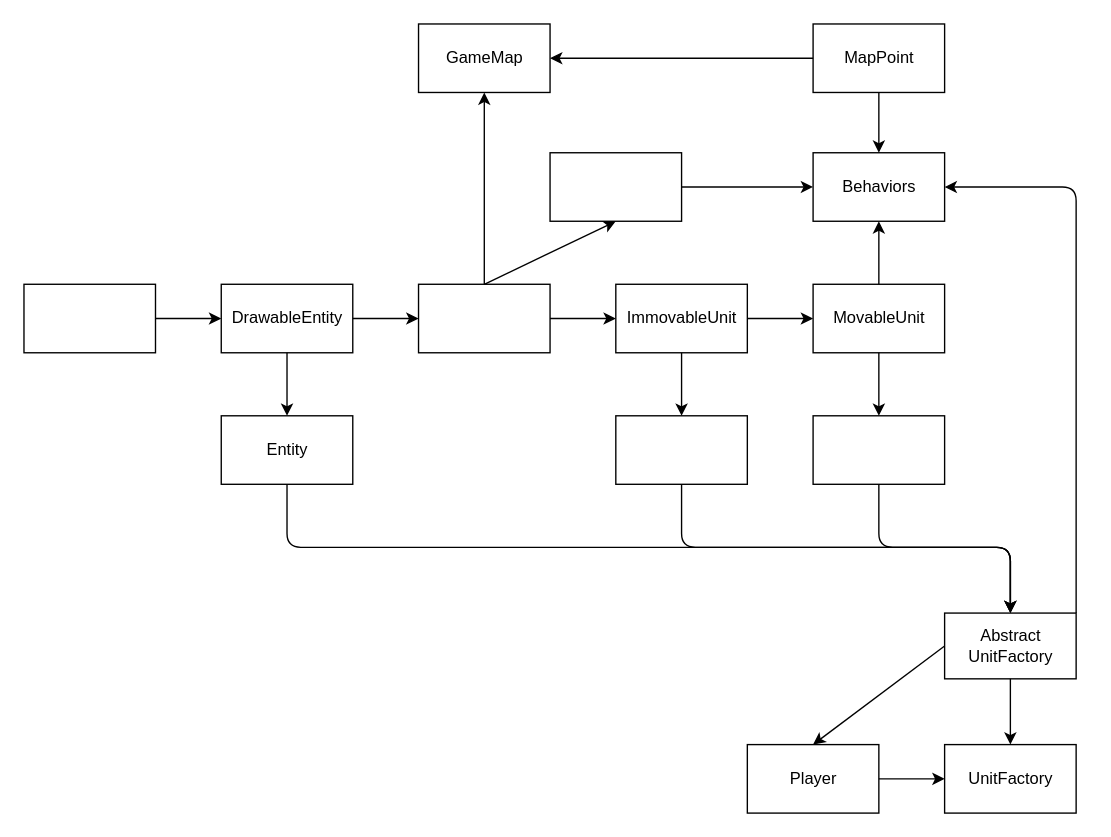
Some shapes in this 1111 by 837 pixel diagram are drawn without their labels. The shapes that lost their labels are listed below. From the top down, each one's centre as x and y in pixels, then its label:
At (615,186): "Behavior".
At (89,318): "Drawable".
At (483,318): "Abstract ImmovableUnit".
At (680,449): "Building".
At (878,449): "Unit".
